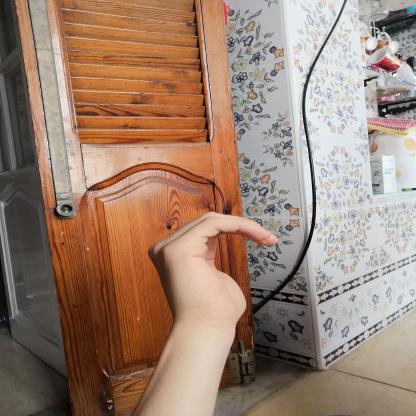HAA: (133, 200, 291, 335)
